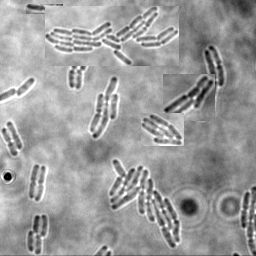Dividing: (1, 128, 18, 157), (34, 166, 47, 202), (28, 164, 39, 200), (239, 192, 249, 229), (26, 4, 63, 14), (67, 67, 81, 89)
Microcolony: (45, 6, 179, 66), (109, 158, 180, 249), (163, 74, 215, 121), (88, 76, 119, 139), (199, 45, 224, 121), (141, 113, 184, 146), (27, 214, 48, 255)
Rod: (5, 121, 23, 150), (16, 78, 34, 99), (73, 69, 82, 90)
